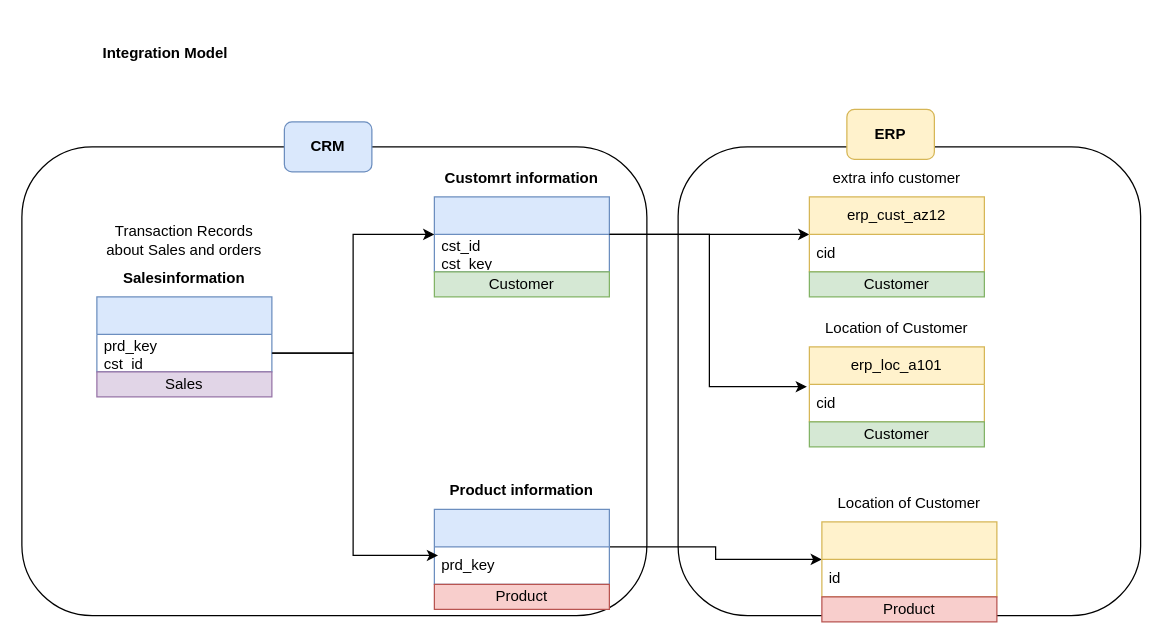
This 1163x644 diagram has some shape labels left out. The box of each missing label's shape, as (x1, y1, x2, y2) in pixels:
crm_cust_info: (433, 196, 609, 272)
crm_prd_info: (433, 508, 609, 584)
crm_sales_details: (96, 296, 272, 372)
erp_px_cat_g1v2: (821, 521, 997, 597)
